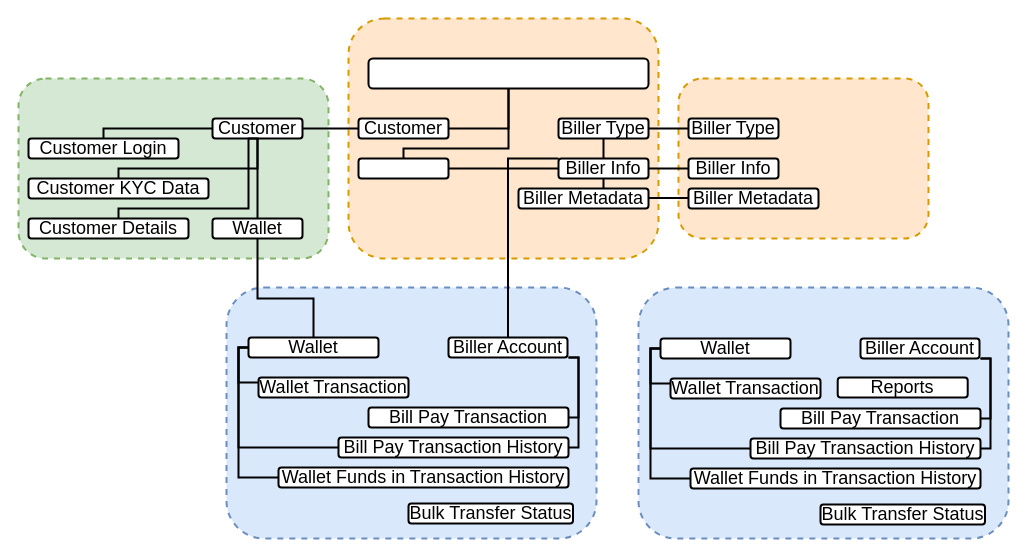
The diagram is 1026 pixels wide and 556 high, and some of its shapes have lost their labels. Each missing label, with the box of its shape:
Bill: (357, 157, 449, 179)
Billing Context: (347, 17, 659, 259)
Customer Biller Registration: (367, 57, 649, 89)
Customer Context: (17, 77, 329, 259)
External Biller Service Context: (677, 77, 929, 239)
Payments Context: (225, 286, 597, 539)
Reporting Context: (637, 286, 1009, 539)
